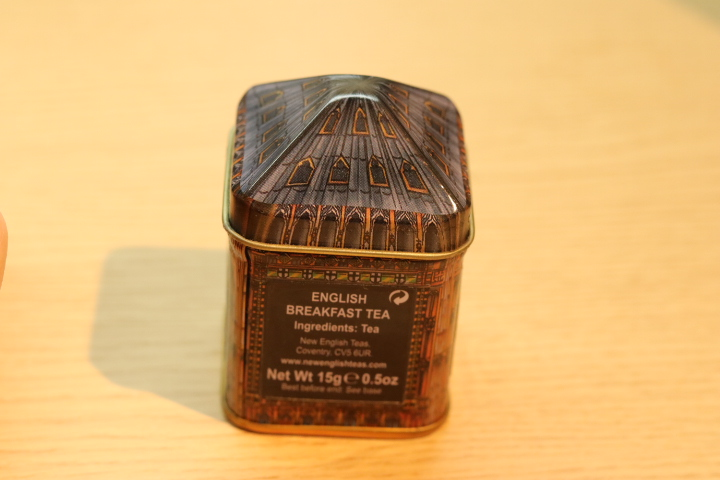Big Ben: (207, 55, 523, 456)
